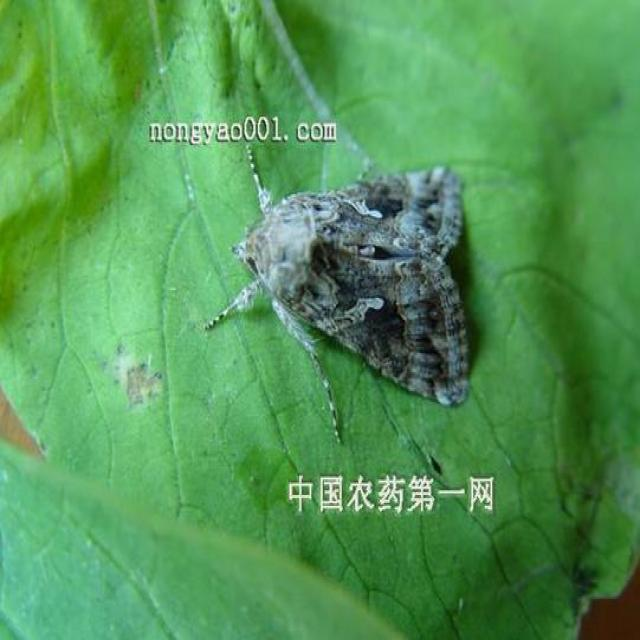armyworm: (231, 120, 472, 400)
